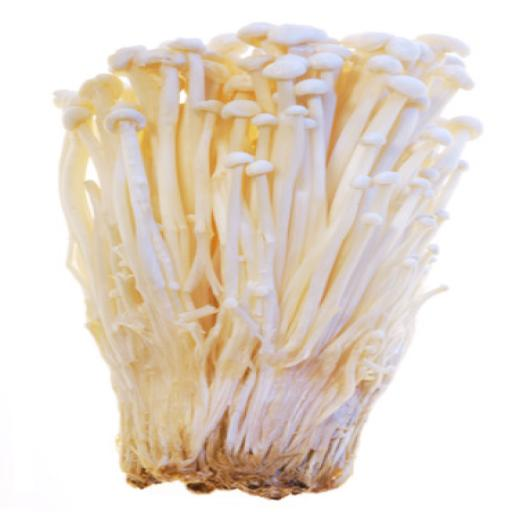Enoki Mushroom: (46, 15, 490, 499)
